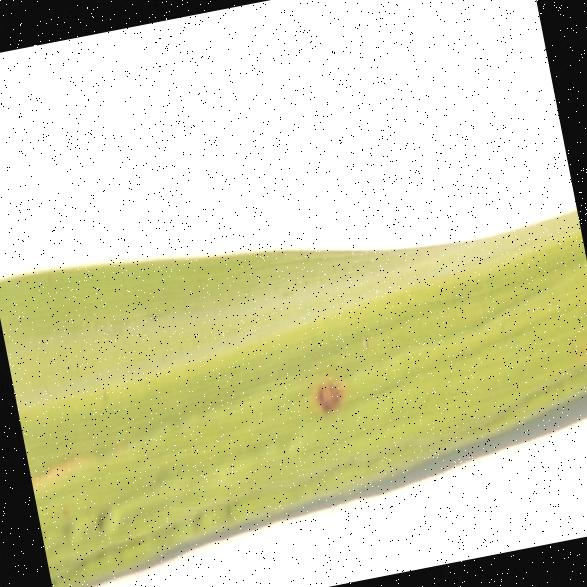Brown_Spot: (300, 344, 362, 430)
